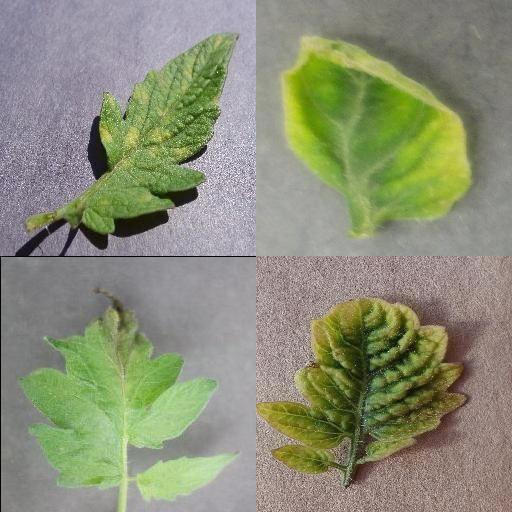Healthy: (135, 453, 242, 503)
Late Blight: (17, 282, 217, 490)
Leaf Mold: (67, 31, 238, 235)
Yellow Leaf Curl Virus: (256, 296, 468, 477), (281, 34, 474, 224)
